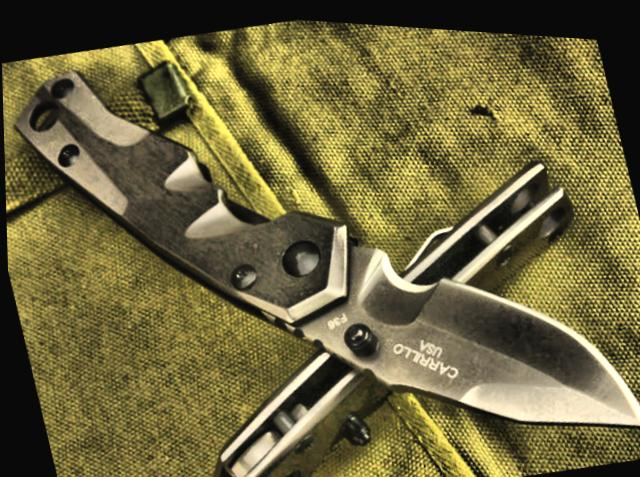knife: (308, 203, 640, 477)
